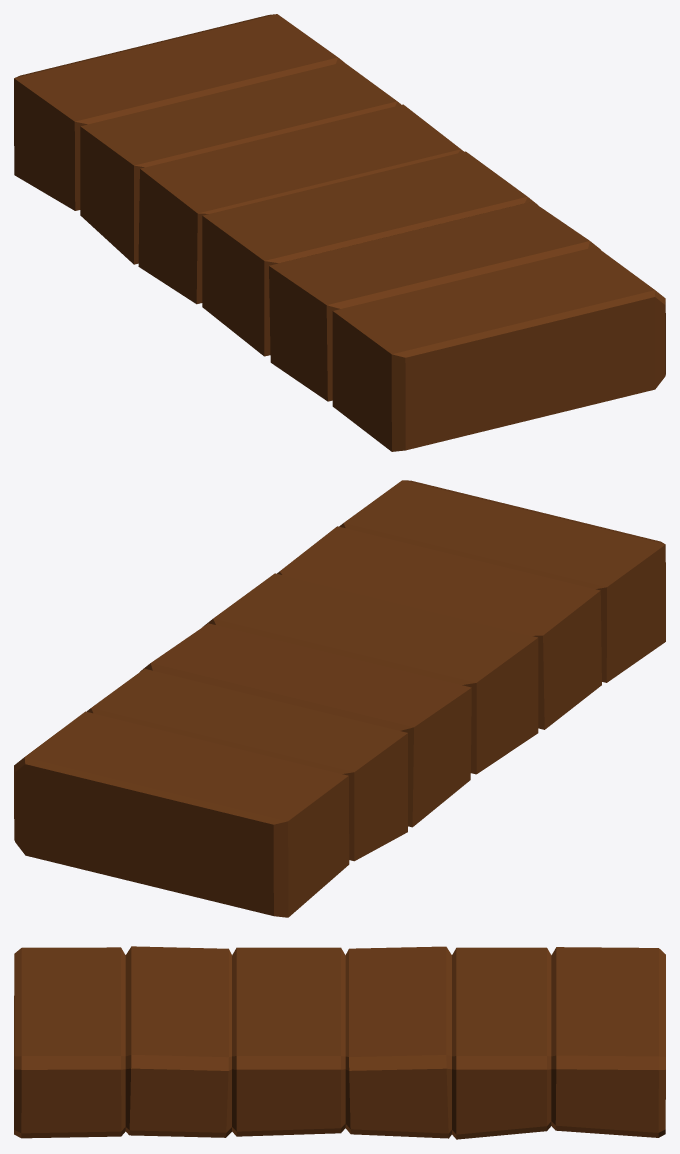
The model's file is wood platform 1.fbx.
The picture shows the model from 3 angles, top to bottom: view 1: azimuth 30°, elevation 25°; view 2: azimuth 150°, elevation 25°; view 3: azimuth 270°, elevation 25°; orthographic projection. The views are drawn at different scales.
Parts seen in each view (by area): view 1: Cube; view 2: Cube; view 3: Cube.
Part boxes in pixels (x1,y1,x2,y2): Cube: [14, 14, 665, 451]; Cube: [14, 480, 665, 917]; Cube: [14, 946, 665, 1139].
Bounding box in the file's own units: 591 × 207 × 1443.
